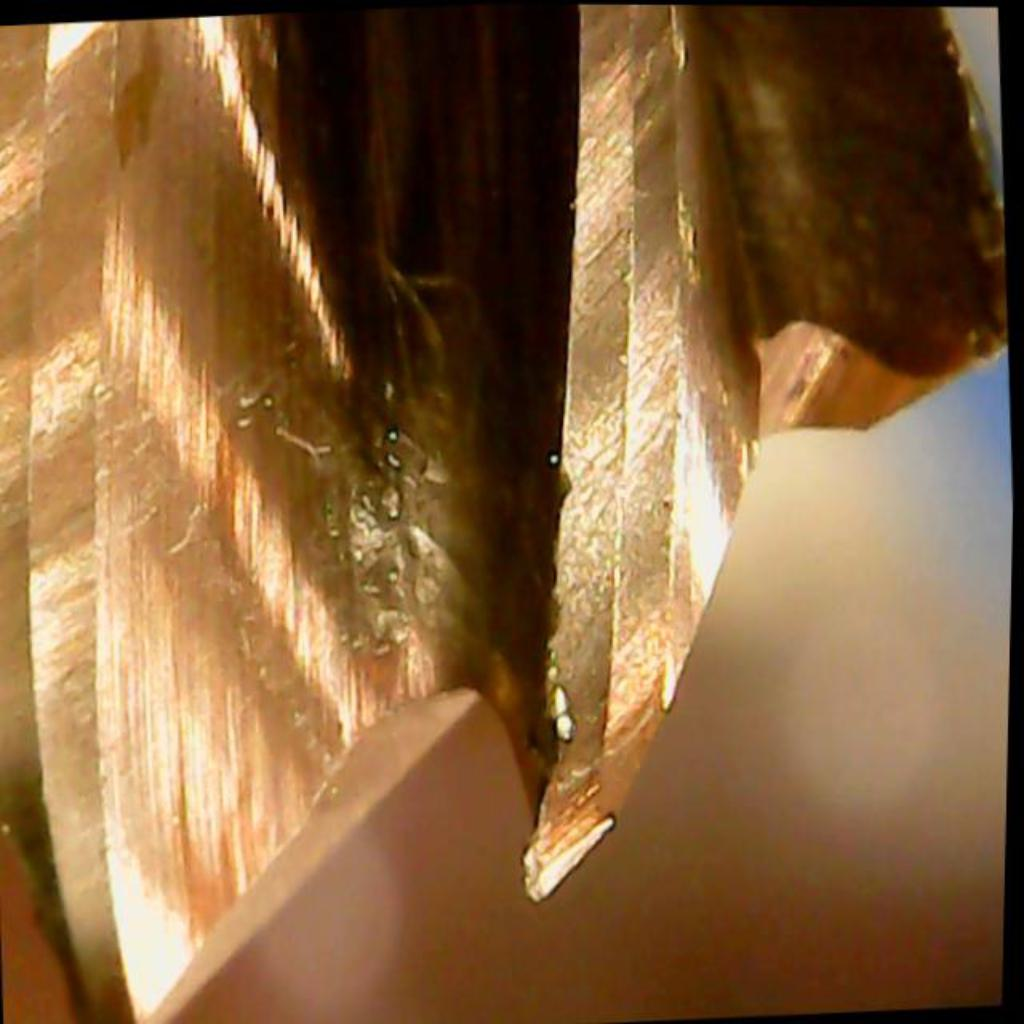Tool-wear-class-1: (461, 452, 751, 916)
